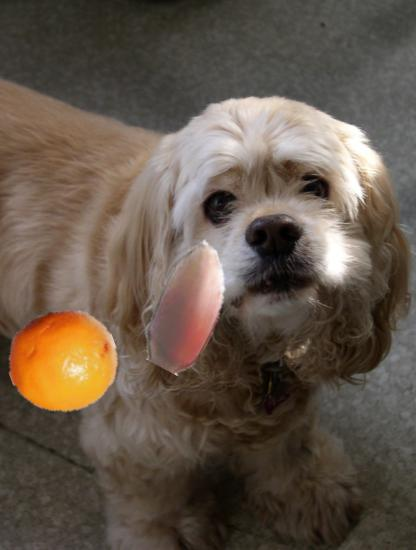Hazelnut: (123, 239, 259, 375)
Lemon: (8, 306, 118, 416)
